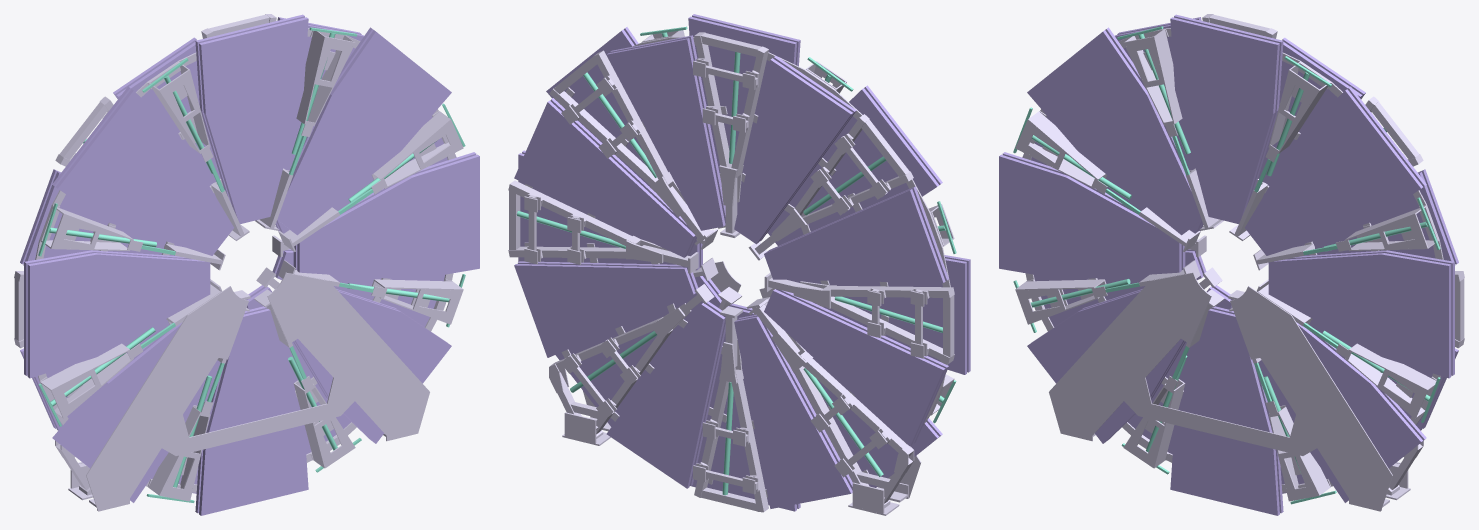
The model's file is Small-Wheel-Chambers-SideA.glb.
3 views of the same model, side by side, from view 1: azimuth 30°, elevation 25°; view 2: azimuth 150°, elevation 25°; view 3: azimuth 330°, elevation 25° (orthographic).
Visible parts, largest first — view 1: null; view 2: null; view 3: null.
Boxes of the visible parts, x1,y1,x2,y2 form: null: [14, 14, 479, 515]; null: [508, 14, 970, 515]; null: [999, 14, 1464, 515].
Size of the model in its own units: 9.29 by 9.29 by 0.9681.
